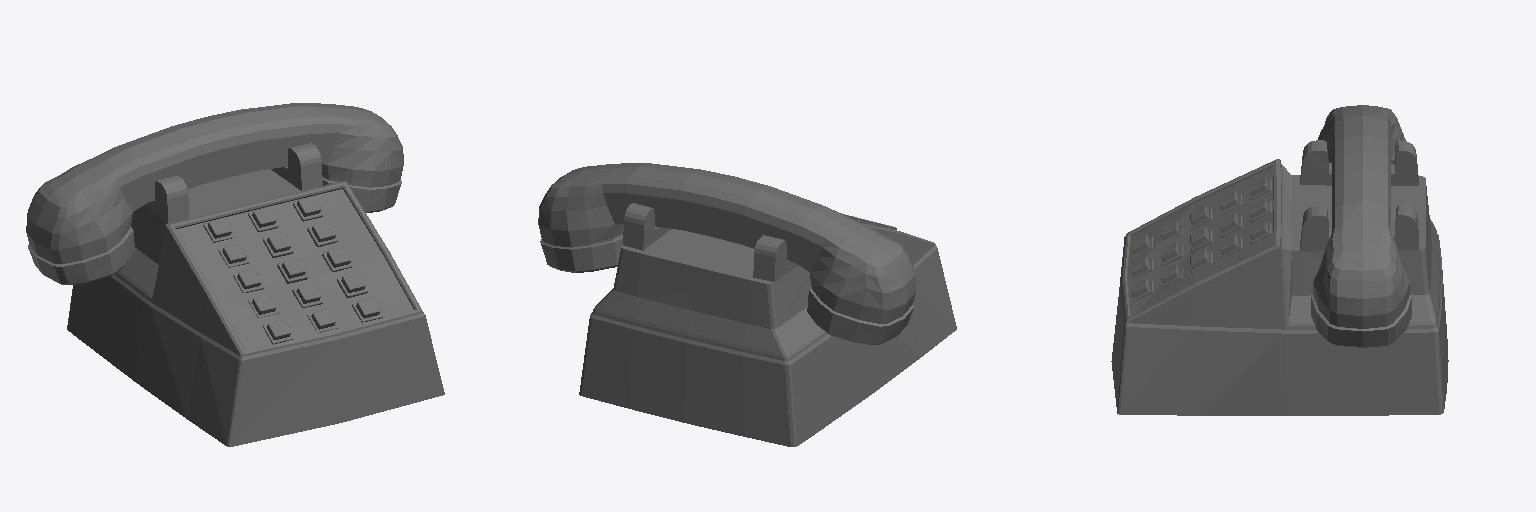
File: Phone.obj
The picture shows the model from 3 angles: view 1: azimuth 30°, elevation 25°; view 2: azimuth 150°, elevation 25°; view 3: azimuth 270°, elevation 25°; orthographic projection.
Visible parts, largest first — view 1: Body, Receive, Button (8); view 2: Body, Receive; view 3: Body, Receive.
Part boxes in pixels (bbox=[...]): Body: bbox=[67, 143, 444, 446]; Receive: bbox=[26, 103, 403, 284]; Button (8): bbox=[277, 258, 308, 283]; Body: bbox=[579, 203, 956, 446]; Receive: bbox=[538, 163, 915, 344]; Body: bbox=[1111, 140, 1448, 415]; Receive: bbox=[1311, 105, 1411, 347].
Size of the model in its own units: 2.43 by 1.36 by 1.97.